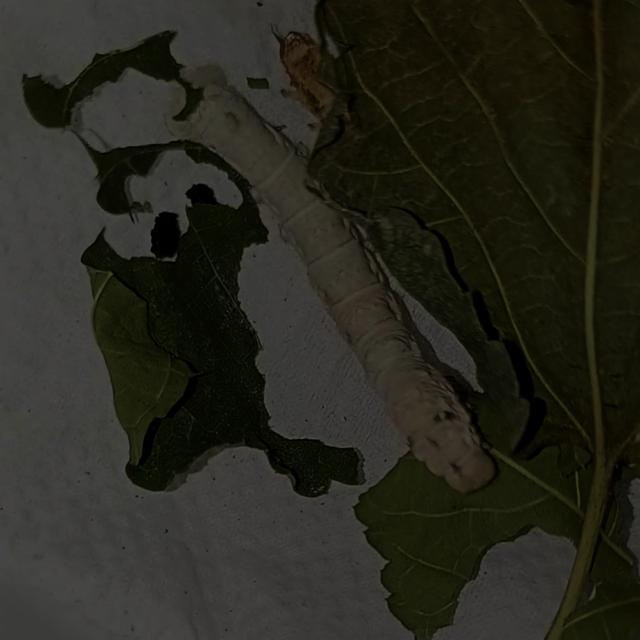Healthy: (133, 32, 557, 516)
